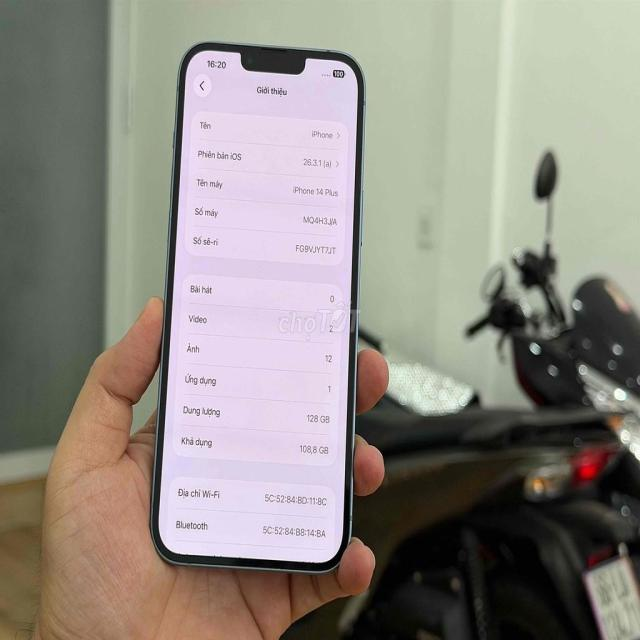gen_14: (154, 39, 363, 578)
